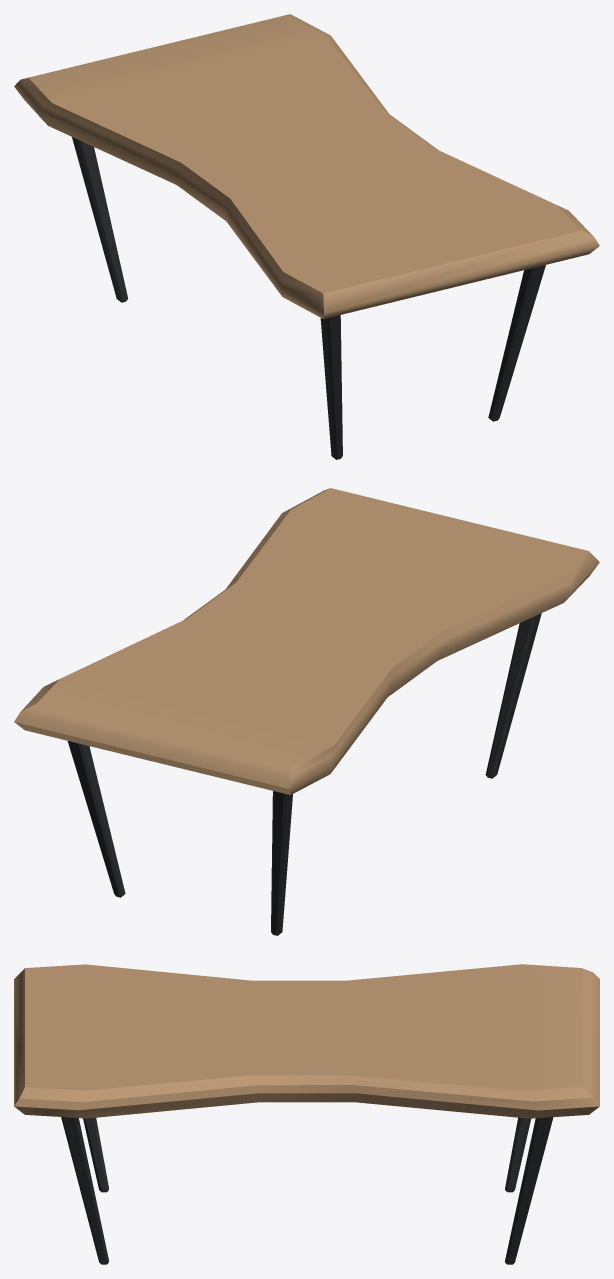
File: 01bureau_nieuwestijl.fbx
The picture shows the model from 3 angles, top to bottom: view 1: azimuth 30°, elevation 25°; view 2: azimuth 150°, elevation 25°; view 3: azimuth 270°, elevation 25°; orthographic projection. The views are drawn at different scales.
Parts seen in each view (by area): view 1: pCube183; view 2: pCube183; view 3: pCube183.
Boxes of the visible parts, x1,y1,x2,y2 form: pCube183: [14, 14, 599, 459]; pCube183: [14, 488, 599, 935]; pCube183: [14, 964, 599, 1264].
Bounding box in the file's own units: 1.62 × 1.1 × 2.97.
